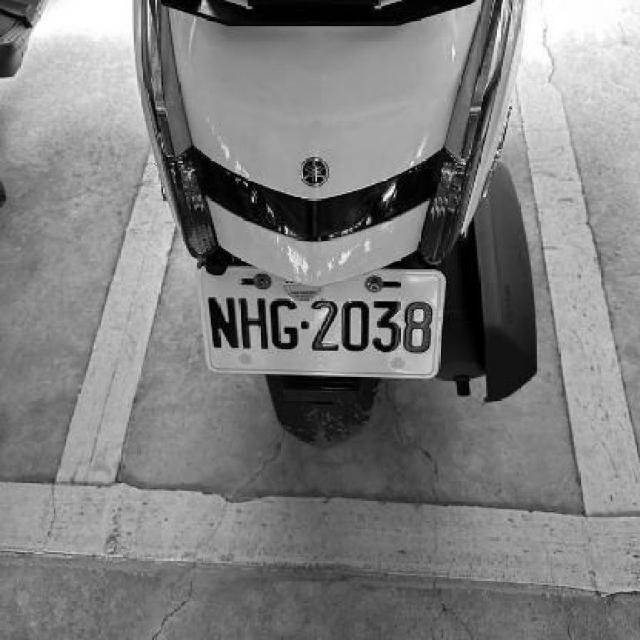-: (298, 320, 310, 331)
0: (342, 298, 371, 352)
2: (308, 298, 342, 352)
3: (369, 300, 400, 358)
8: (402, 300, 432, 357)
G: (268, 297, 302, 354)
H: (237, 292, 268, 354)
N: (206, 295, 239, 354)
